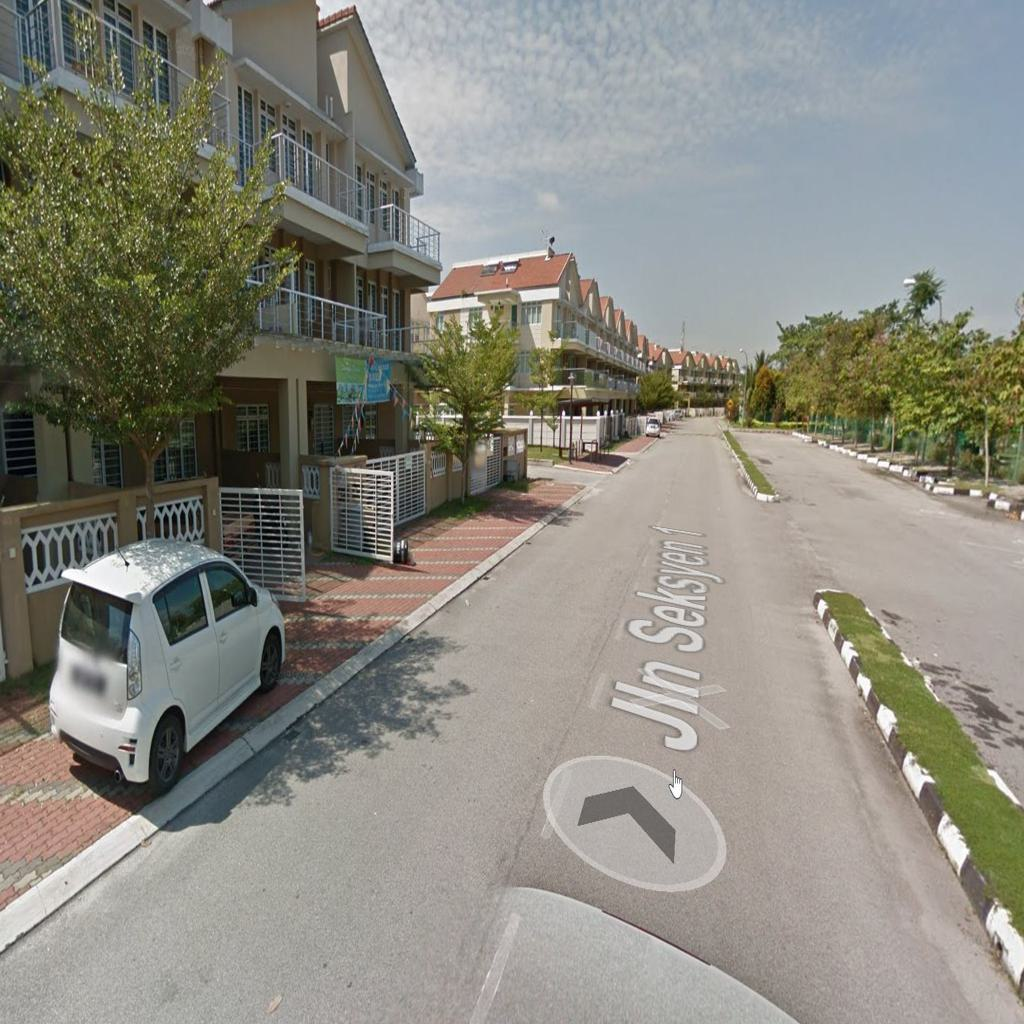Junction: (528, 443, 620, 494)
